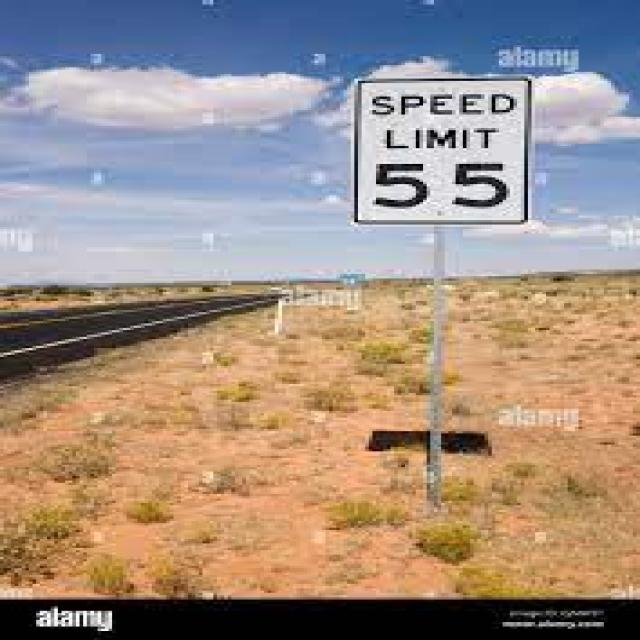speedLimit55: (349, 64, 526, 241)
